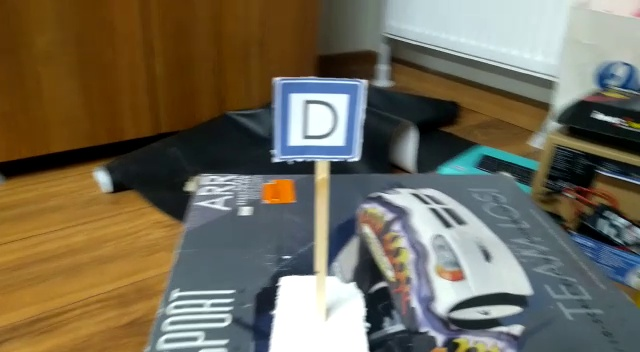durak: (261, 64, 375, 165)
